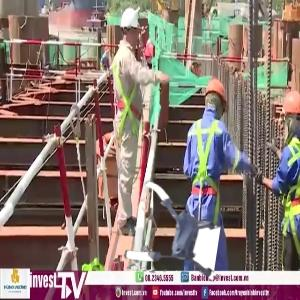drone: (125, 181, 221, 277)
